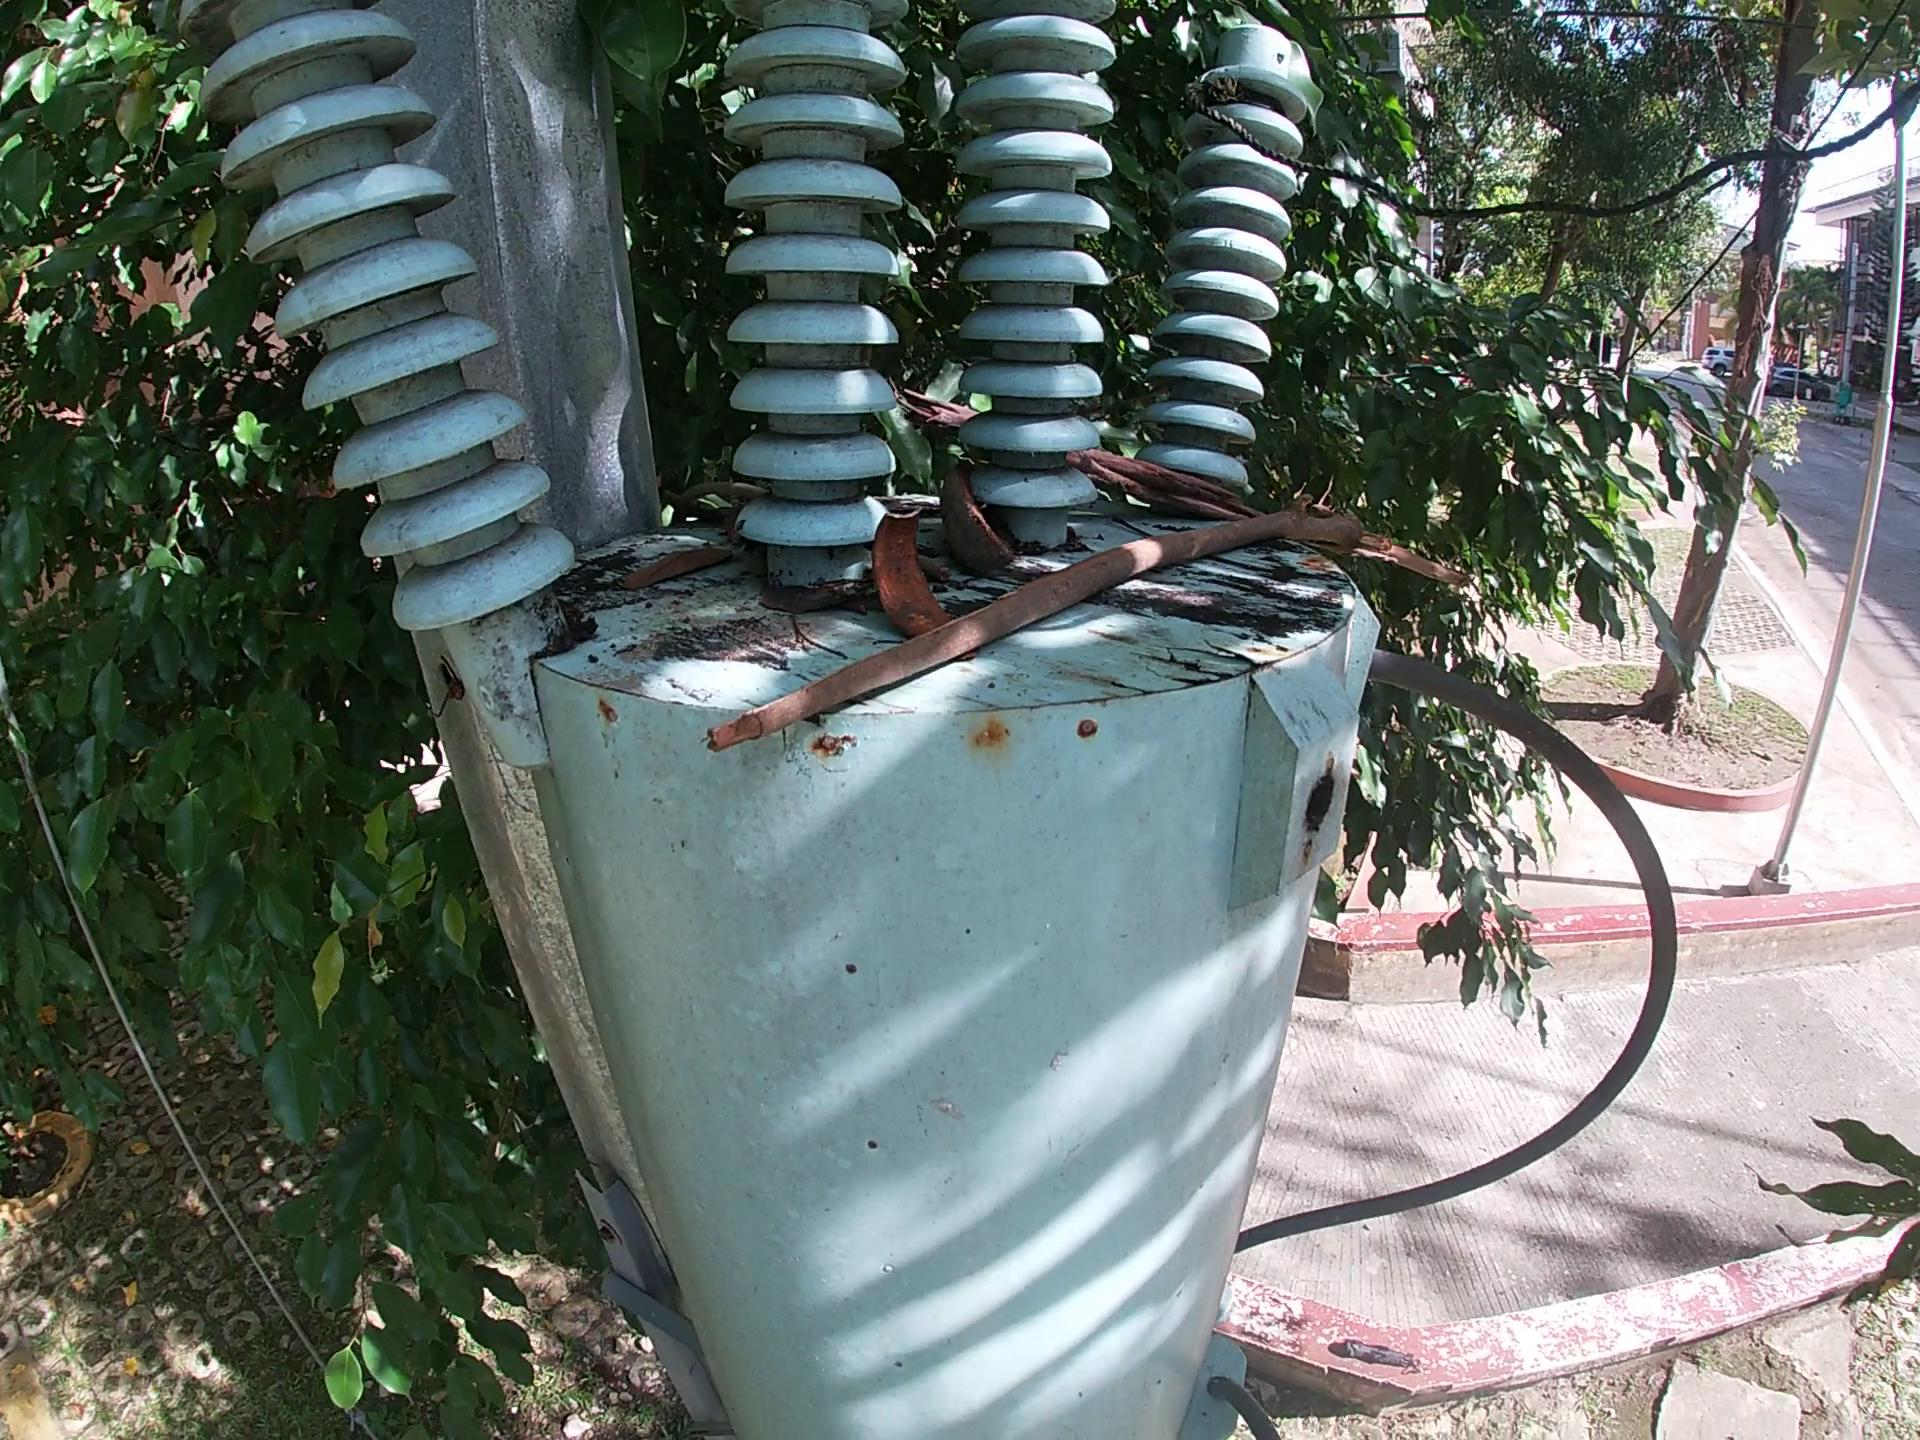leaf: (605, 535, 754, 601)
mahogany fruit: (862, 504, 957, 644), (928, 451, 1019, 572)
tree branch: (698, 495, 1489, 765), (890, 383, 1293, 532), (659, 470, 773, 538)
